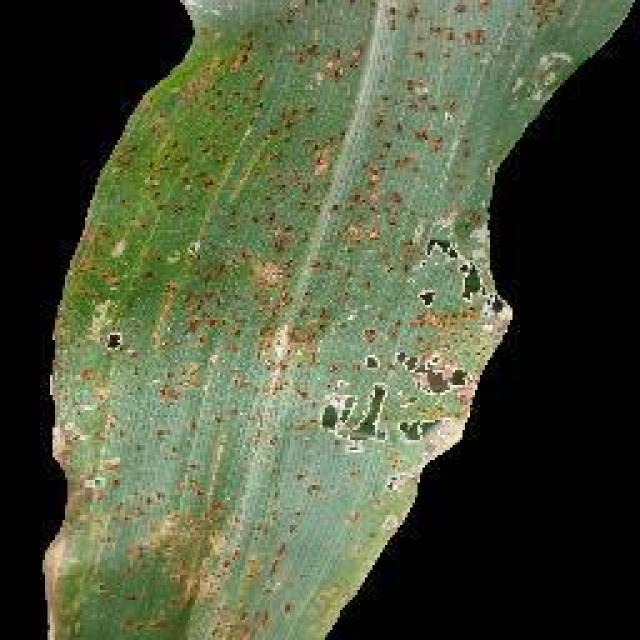Corn Common Rust: (103, 80, 482, 550)
